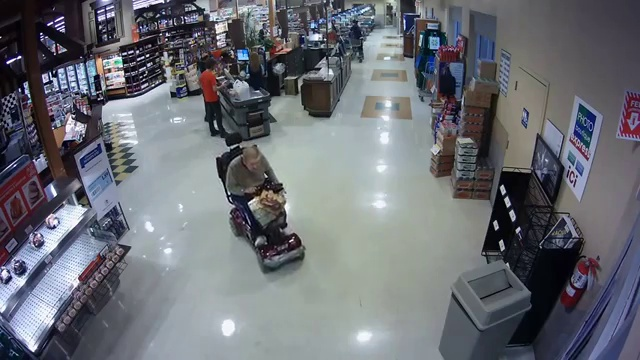face: (248, 158, 260, 172)
